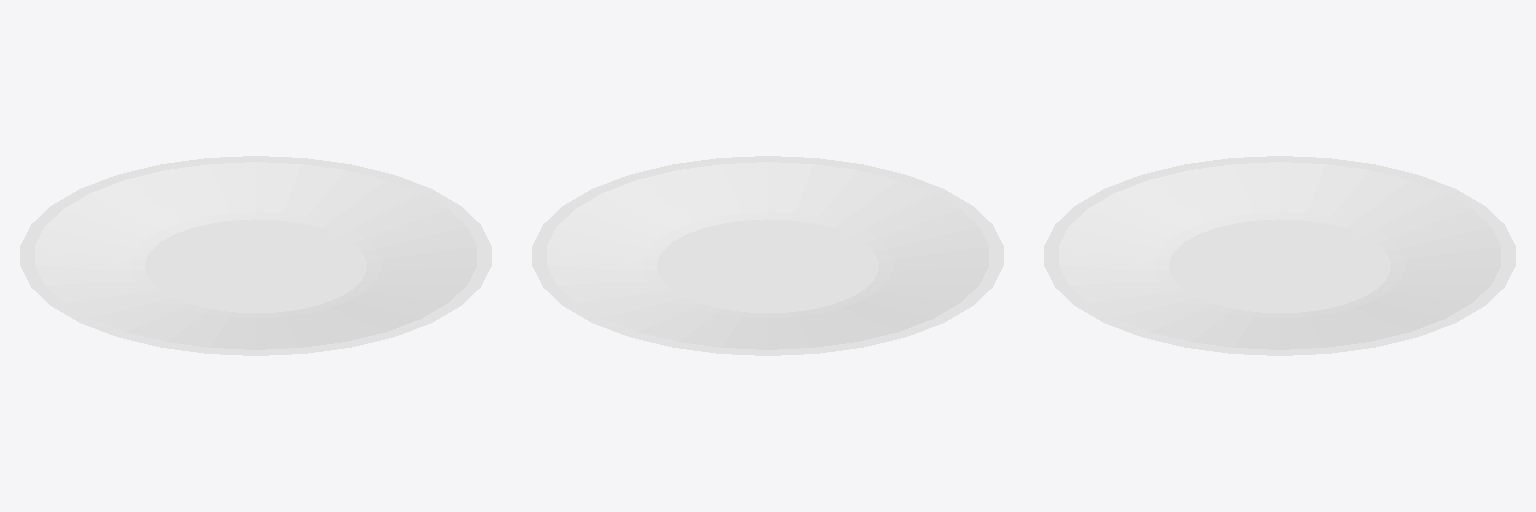
URDF robot description (cube):
<?xml version="1.0"?>
<robot name="cube">
  <!-- Frying pan model, Copyright (c) 2016 Oleg Klimov       -->
  <!-- LICENSE: CC-SA                                         -->
  <link name="cube">
    <visual>
      <origin rpy="0 0 0" xyz="0 0 0"/>
      <geometry>
        <mesh filename="plate.obj" scale="0.6 0.6 .05"/>
      </geometry>
      <material name="white">  <!-- forces it to actually use the image for its colour -->
        <color rgba="1 1 1 1"/>
      </material>
    </visual>

    <!-- bottom -->
    <collision>
      <geometry>
        <cylinder radius="0.05" length="0.005"/>
      </geometry>
      <origin rpy="0 0 0" xyz="0 0 0.0025"/>
    </collision>

    <collision>
      <geometry>
        <mesh filename="plate-collision01.obj" scale="0.6 0.6 .05"/>
      </geometry>
      <origin rpy="0 0 0" xyz="0 0 0"/>
    </collision>

    <collision>
      <geometry>
        <mesh filename="plate-collision02.obj" scale="0.6 0.6 .05"/>
      </geometry>
      <origin rpy="0 0 0" xyz="0 0 0"/>
    </collision>

    <collision>
      <geometry>
        <mesh filename="plate-collision03.obj" scale="0.6 0.6 .05"/>
      </geometry>
      <origin rpy="0 0 0" xyz="0 0 0"/>
    </collision>

    <collision>
      <geometry>
        <mesh filename="plate-collision04.obj" scale="0.6 0.6 .05"/>
      </geometry>
      <origin rpy="0 0 0" xyz="0 0 0"/>
    </collision>

    <collision>
      <geometry>
        <mesh filename="plate-collision05.obj" scale="0.6 0.6 .05"/>
      </geometry>
      <origin rpy="0 0 0" xyz="0 0 0"/>
    </collision>

    <collision>
      <geometry>
        <mesh filename="plate-collision06.obj" scale="0.6 0.6 .1"/>
      </geometry>
      <origin rpy="0 0 0" xyz="0 0 0"/>
    </collision>

    <inertial>
      <mass value="0.1"/>  <!-- mr^2 = 0.6*0.12^2 = 0.0072 for Z axis, lighter along other axis -->
      <inertia ixx="0.005" iyy="0.005" izz="0.0072"/>
    </inertial>
  </link>

</robot>

--- Facts derived from the render (not from the file) ---
Views: 3 orthographic renders of the robot side by side, from view 1: azimuth 30°, elevation 25°; view 2: azimuth 150°, elevation 25°; view 3: azimuth 270°, elevation 25°.
Model cube with 1 links and 0 joints (none), rooted at cube, posed every joint at zero.
Visible links, largest first — view 1: cube; view 2: cube; view 3: cube.
Link boxes in pixels (box(x1,y1,x2,y2)): cube: box(20, 156, 491, 355); cube: box(532, 156, 1003, 355); cube: box(1044, 156, 1515, 355).
Bounding box of the posed robot: 0.1176 × 0.117 × 0.003 m (x, y, z).
Meshes: 1 distinct files referenced, 1 mesh visuals loaded (1 OBJ).
